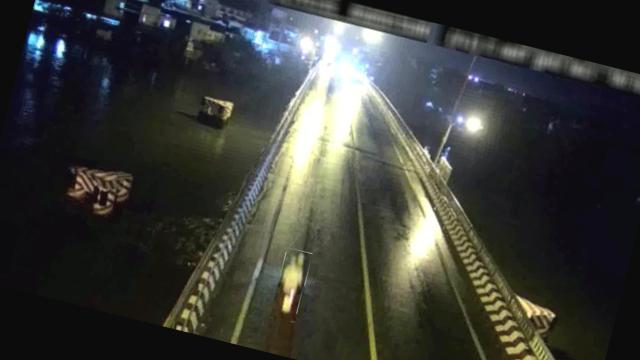Bike: (270, 248, 312, 318)
